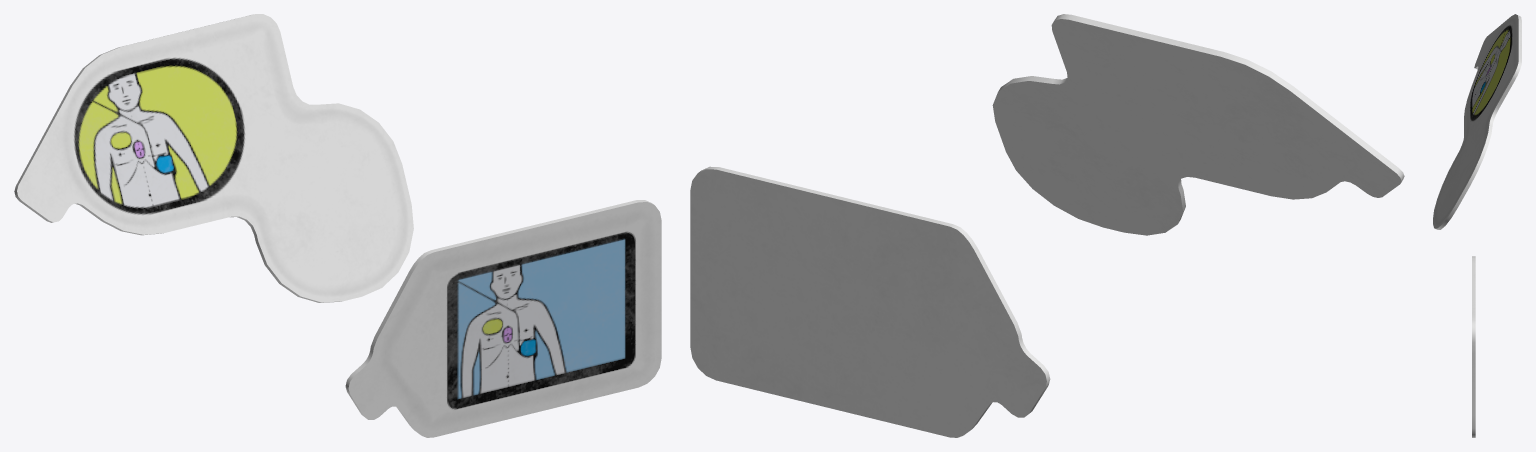
The model's file is BCMM_AEDPads.fbx.
3 views of the same model, side by side, from view 1: azimuth 30°, elevation 25°; view 2: azimuth 150°, elevation 25°; view 3: azimuth 270°, elevation 25° (orthographic). The views are drawn at different scales.
Visible parts, largest first — view 1: BCMM_AEDPads; view 2: BCMM_AEDPads; view 3: BCMM_AEDPads.
Part boxes in pixels (x1=…): BCMM_AEDPads: x1=14, y1=14, x2=661, y2=437; BCMM_AEDPads: x1=690, y1=14, x2=1404, y2=437; BCMM_AEDPads: x1=1433, y1=14, x2=1521, y2=437.
Size of what is drawn, in the model's own units: 24 by 15.58 by 4.66.
